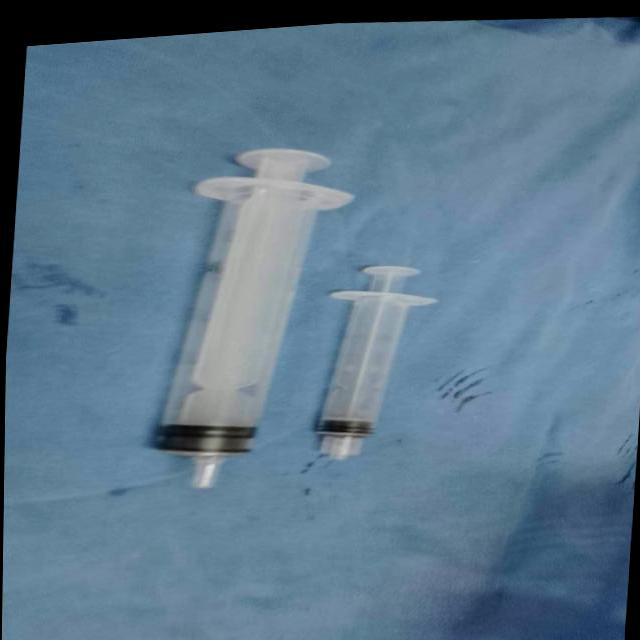Sharps: (151, 147, 356, 491), (313, 264, 439, 463)
